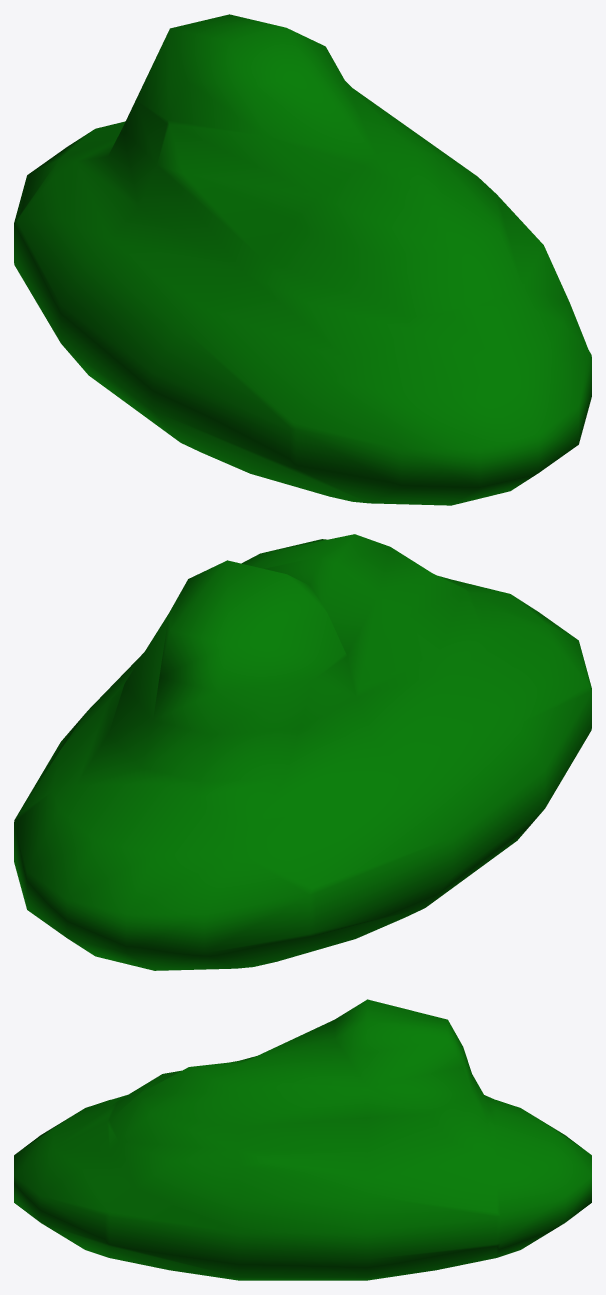
Rendered from bush_MY_ASSET.fbx.
The picture shows the model from 3 angles, top to bottom: view 1: azimuth 30°, elevation 25°; view 2: azimuth 150°, elevation 25°; view 3: azimuth 270°, elevation 25°; orthographic projection. The views are drawn at different scales.
Visible parts, largest first — view 1: Mball; view 2: Mball; view 3: Mball.
Boxes of the visible parts, x1,y1,x2,y2 form: Mball: [14, 14, 591, 505]; Mball: [14, 534, 591, 970]; Mball: [14, 999, 591, 1280].
Bounding box in the file's own units: 896 × 761 × 1629.
